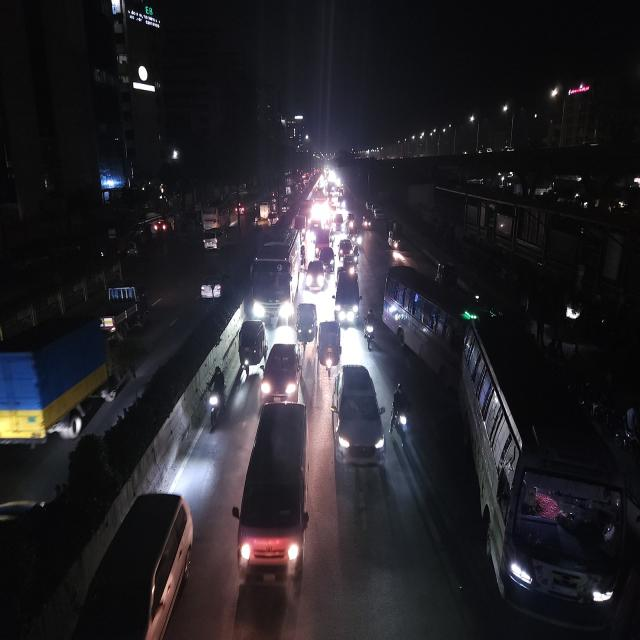bus: (460, 316, 628, 635), (382, 262, 477, 392), (250, 224, 302, 326), (198, 200, 233, 231)
car: (77, 491, 195, 640), (236, 400, 312, 597), (0, 480, 61, 638), (331, 359, 385, 473), (261, 337, 301, 403), (333, 266, 361, 328), (198, 268, 226, 304), (304, 256, 326, 295), (201, 230, 229, 250), (317, 243, 335, 273), (338, 236, 354, 263)
cng: (236, 316, 267, 381), (318, 318, 342, 379), (296, 299, 316, 350), (435, 258, 459, 290)
motorcycle: (205, 361, 228, 431), (391, 380, 411, 450), (362, 306, 376, 349)
pickup_van: (99, 283, 151, 340)
truck: (1, 311, 108, 449), (259, 201, 269, 221)
